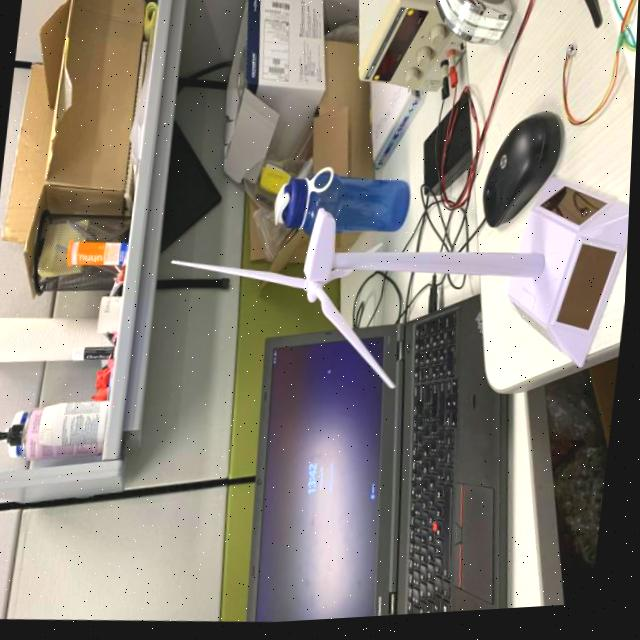solid-blade: (316, 289, 398, 392), (174, 261, 312, 292)
